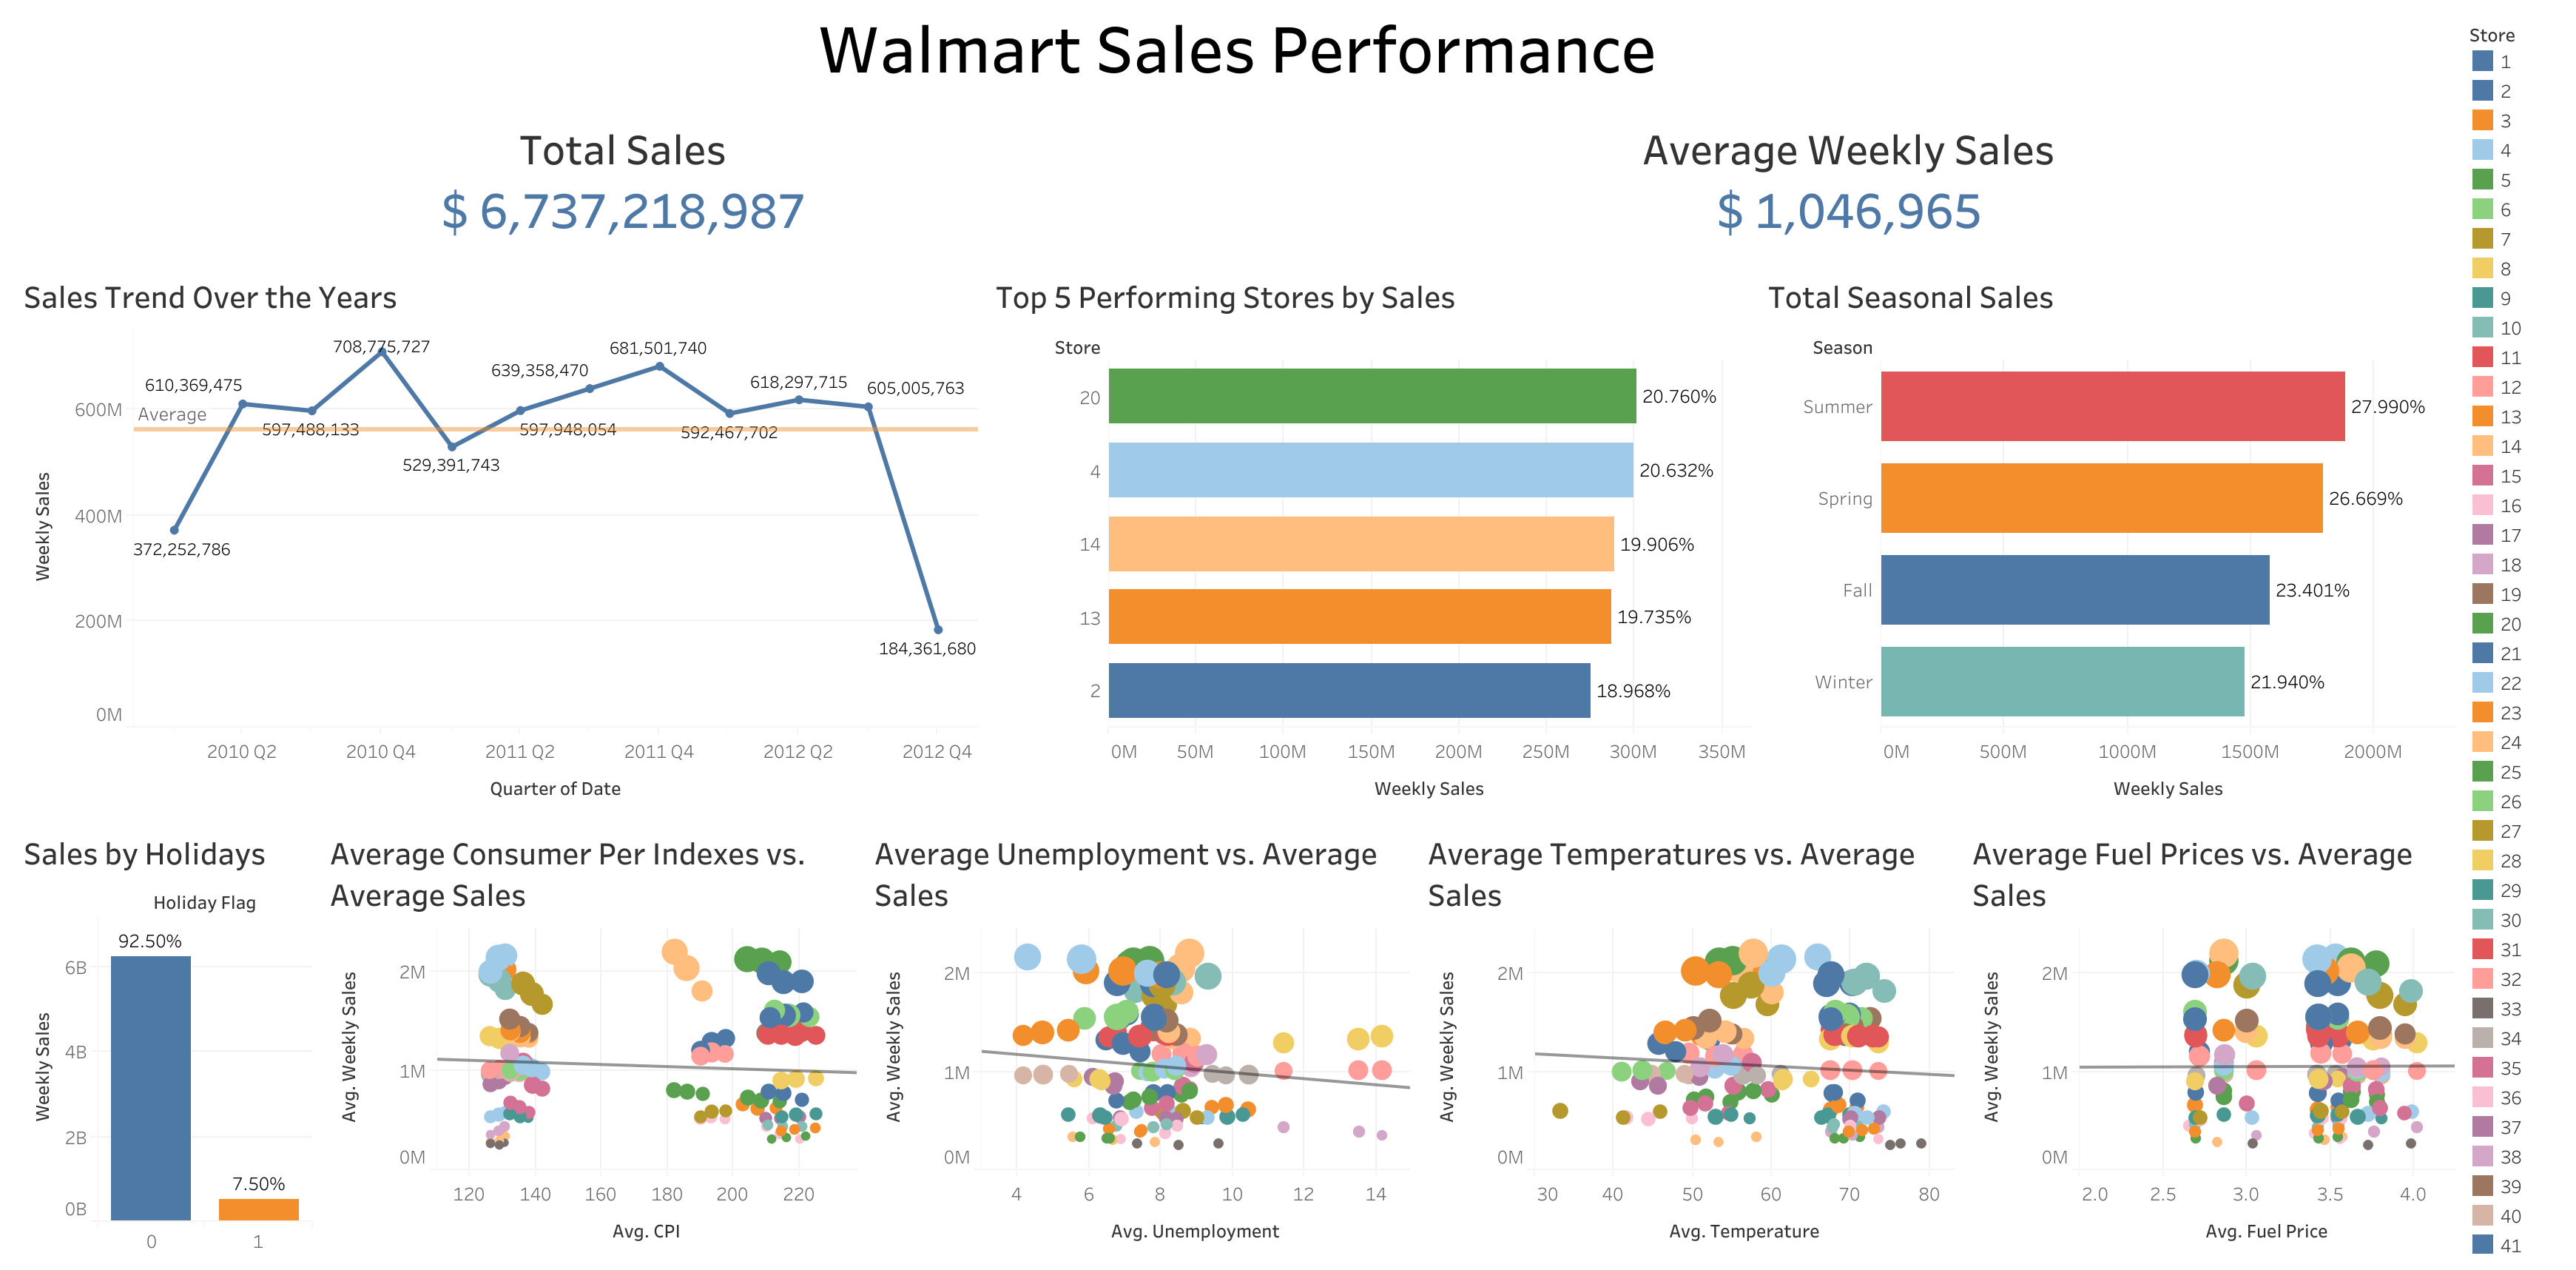

The dashboard page shown, as its layout file describes it:
{"tool":"tableau","page":{"name":"Walmart Sales Performance","canvas":[1000,1000],"units":"permille","ordinal":0},"visuals":[{"type":"title","box":[5.1,9.5,945.6,54.5]},{"type":"legend","title":"CPIs & Sales","param":"[federated.1sotg9w1q9dvf616chr4l0wskd5l].[none:Store:ok]","box":[950.7,9.5,44.3,981]},{"type":"worksheet","title":"KPI - Total Sales","mark":"Automatic","box":[5.1,64,473.1,141.6]},{"type":"worksheet","title":"KPI - Average Weekly Sales","mark":"Automatic","box":[478.1,64,472.5,141.6]},{"type":"worksheet","title":"Sales Trend","mark":"Automatic","rows":["Weekly_Sales"],"cols":["Date"],"box":[5.1,205.6,375.1,436.6]},{"type":"worksheet","title":"Sales by Stores","mark":"Automatic","rows":["Store"],"cols":["Weekly_Sales"],"box":[380.1,205.6,297.9,436.6]},{"type":"worksheet","title":"Seasonal Sales","mark":"Automatic","rows":["Calculation_188658666967670784"],"cols":["Weekly_Sales"],"box":[678.1,205.6,272.6,436.6]},{"type":"worksheet","title":"Sales by Holidays","mark":"Automatic","rows":["Weekly_Sales"],"cols":["Holiday_Flag"],"box":[5.1,642.2,118.3,348.3]},{"type":"worksheet","title":"CPIs & Sales","mark":"Circle","rows":["Weekly_Sales"],"cols":["CPI"],"box":[123.3,642.2,210,348.3]},{"type":"worksheet","title":"Unemployment & Sales","mark":"Circle","rows":["Weekly_Sales"],"cols":["Unemployment"],"box":[333.3,642.2,213.8,348.3]},{"type":"worksheet","title":"Temp & Sales","mark":"Circle","rows":["Weekly_Sales"],"cols":["Temperature"],"box":[547.1,642.2,210,348.3]},{"type":"worksheet","title":"Fuel Price & Sales","mark":"Circle","rows":["Weekly_Sales"],"cols":["Fuel_Price"],"box":[757.1,642.2,193.5,348.3]}]}

Visuals, with their boxes on the dashboard's canvas, which has no fixed pixel size, in thousandths of its width and height (x1, y1, x2, y2). These are canvas units, not pixel positions in the 2576x1270 screenshot, which may show the page scaled, cropped or inside an application window:
title: 5 10 951 64
"CPIs & Sales" legend: 951 10 995 990
"KPI - Total Sales" worksheet: 5 64 478 206
"KPI - Average Weekly Sales" worksheet: 478 64 951 206
"Sales Trend" worksheet: 5 206 380 642
"Sales by Stores" worksheet: 380 206 678 642
"Seasonal Sales" worksheet: 678 206 951 642
"Sales by Holidays" worksheet: 5 642 123 990
"CPIs & Sales" worksheet (Circle marks): 123 642 333 990
"Unemployment & Sales" worksheet (Circle marks): 333 642 547 990
"Temp & Sales" worksheet (Circle marks): 547 642 757 990
"Fuel Price & Sales" worksheet (Circle marks): 757 642 951 990
